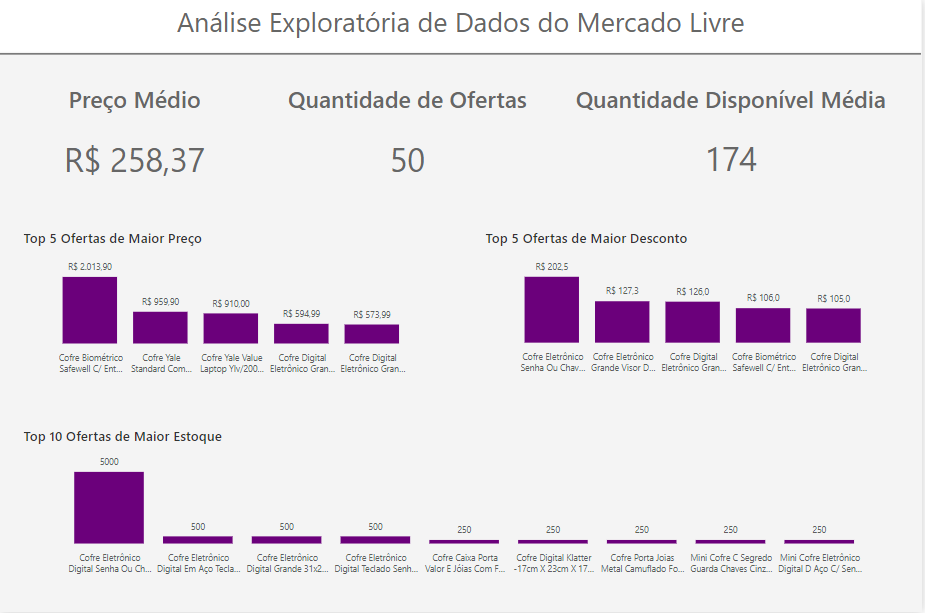

This screenshot's page, from the dashboard's own definition file:
{"tool":"powerbi","page":{"name":"Página 1","canvas":[1280,850],"ordinal":0},"visuals":[{"type":"textbox","box":[0,0,1279.4,71.8],"z":0},{"type":"shape","box":[0,0,1279.2,149.6],"z":1000},{"type":"card","title":"Preço Médio","fields":{"Values":["dados_meli.avg_price"]},"box":[29.3,115.5,315.5,165.5],"z":2000},{"type":"card","title":"Quantidade de Ofertas","fields":{"Values":["dados_meli.qtd_prod"]},"box":[384.7,115.5,362.1,165.5],"z":3000},{"type":"card","title":"Quantidade Disponível Média","fields":{"Values":["dados_meli.avg_disp"]},"box":[786.7,115.6,457.8,164.4],"z":4000},{"type":"clusteredColumnChart","title":"Top 5 Ofertas de Maior Preço","fields":{"Category":["dados_meli.title"],"Y":["dados_meli.preco_total"]},"box":[28.4,317.9,573.3,210],"z":5000},{"type":"clusteredColumnChart","title":"Top 10 Ofertas de Maior Estoque","fields":{"Category":["dados_meli.title"],"Y":["dados_meli.qtd_disp"]},"box":[28.4,593.2,1214.7,212.9],"z":6000},{"type":"clusteredColumnChart","title":"Top 5 Ofertas de Maior Desconto","fields":{"Category":["dados_meli.title"],"Y":["dados_meli.desconto_total"]},"box":[670,318.4,572.8,208.9],"z":6001}]}

Visuals, with their boxes in screenshot pixels (x1, y1, x2, y2), scaled from the page's 1280x850 canvas onto the 925x613 screenshot:
textbox: {"x1": 0, "y1": 0, "x2": 924, "y2": 52}
shape: {"x1": 0, "y1": 0, "x2": 924, "y2": 108}
"Preço Médio" card: {"x1": 21, "y1": 83, "x2": 249, "y2": 203}
"Quantidade de Ofertas" card: {"x1": 278, "y1": 83, "x2": 540, "y2": 203}
"Quantidade Disponível Média" card: {"x1": 569, "y1": 83, "x2": 899, "y2": 202}
"Top 5 Ofertas de Maior Preço" clusteredColumnChart: {"x1": 21, "y1": 229, "x2": 435, "y2": 381}
"Top 10 Ofertas de Maior Estoque" clusteredColumnChart: {"x1": 21, "y1": 428, "x2": 898, "y2": 581}
"Top 5 Ofertas de Maior Desconto" clusteredColumnChart: {"x1": 484, "y1": 230, "x2": 898, "y2": 380}
